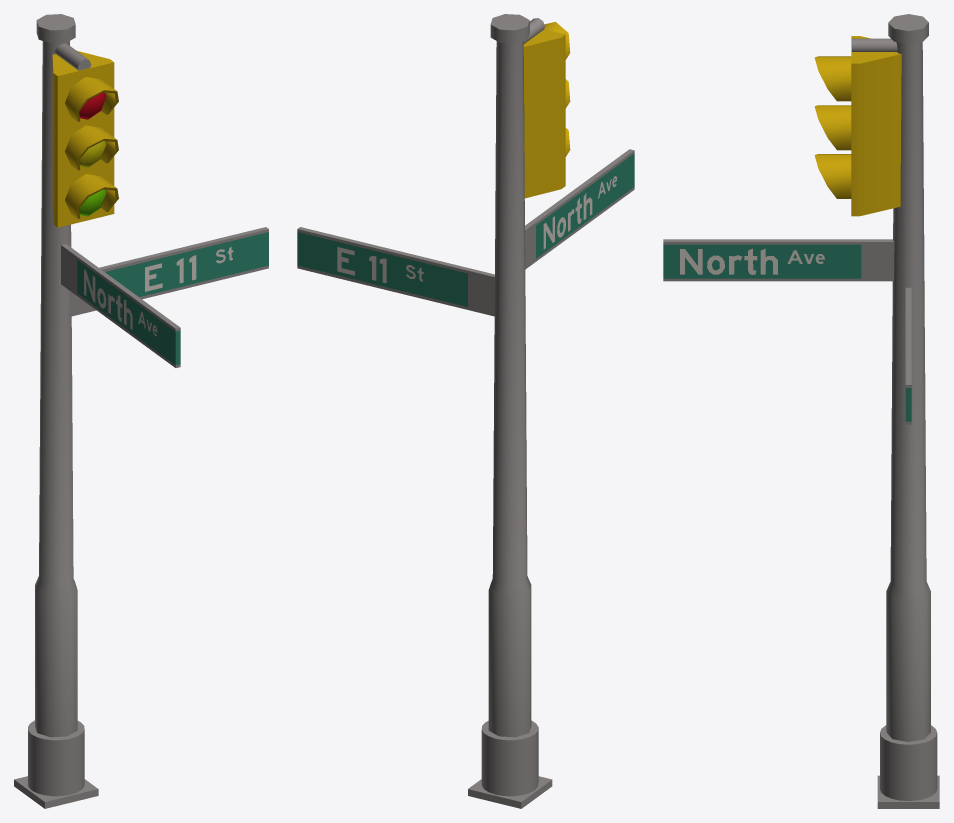
The model's file is Traffic Light copy.glb.
3 views of the same model, side by side, from view 1: azimuth 30°, elevation 25°; view 2: azimuth 150°, elevation 25°; view 3: azimuth 270°, elevation 25° (orthographic).
Visible parts, largest first — view 1: TrafficLight_1; view 2: TrafficLight_1; view 3: TrafficLight_1.
Boxes of the visible parts, box(x1,y1,x2,y2) form: TrafficLight_1: box(14, 14, 268, 808); TrafficLight_1: box(297, 14, 634, 808); TrafficLight_1: box(663, 14, 939, 808).
Size of the model in its own units: 1.51 by 4.66 by 1.51.
1 material, 1 textured.
